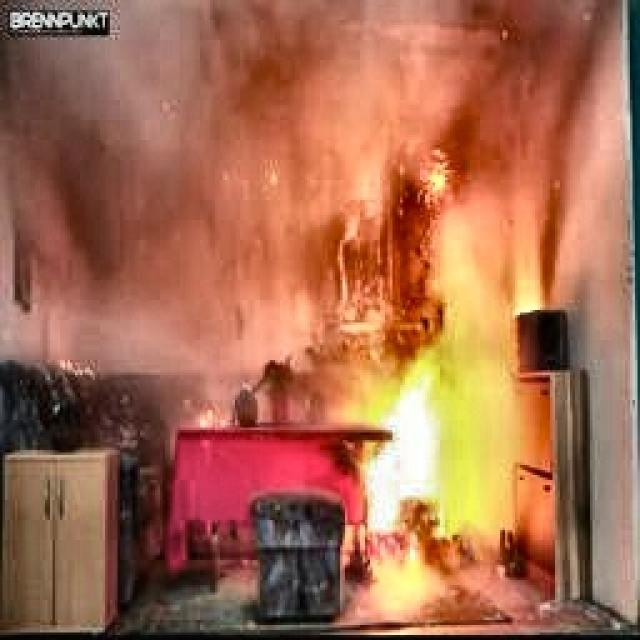fire: (316, 348, 492, 554)
